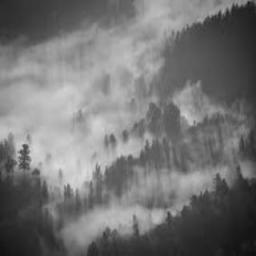Heavy smoke: (0, 0, 255, 241)
